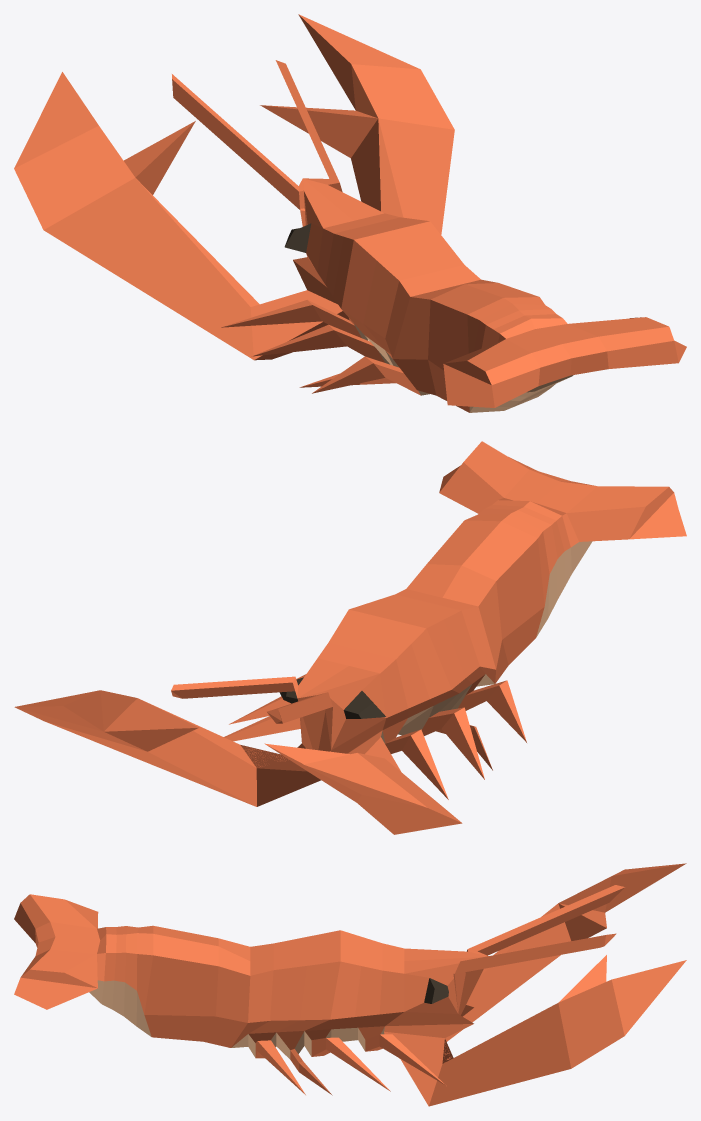
Rendered from LobsterCooked.glb.
The picture shows the model from 3 angles, top to bottom: view 1: azimuth 30°, elevation 25°; view 2: azimuth 150°, elevation 25°; view 3: azimuth 270°, elevation 25°; orthographic projection. The views are drawn at different scales.
Visible parts, largest first — view 1: EXPORT_cooked_lobster; view 2: EXPORT_cooked_lobster; view 3: EXPORT_cooked_lobster.
Boxes of the visible parts, x1,y1,x2,y2 form: EXPORT_cooked_lobster: [14, 14, 686, 412]; EXPORT_cooked_lobster: [14, 441, 686, 834]; EXPORT_cooked_lobster: [14, 863, 686, 1106].
Bounding box in the file's own units: 0.4127 × 0.1922 × 0.6964.
